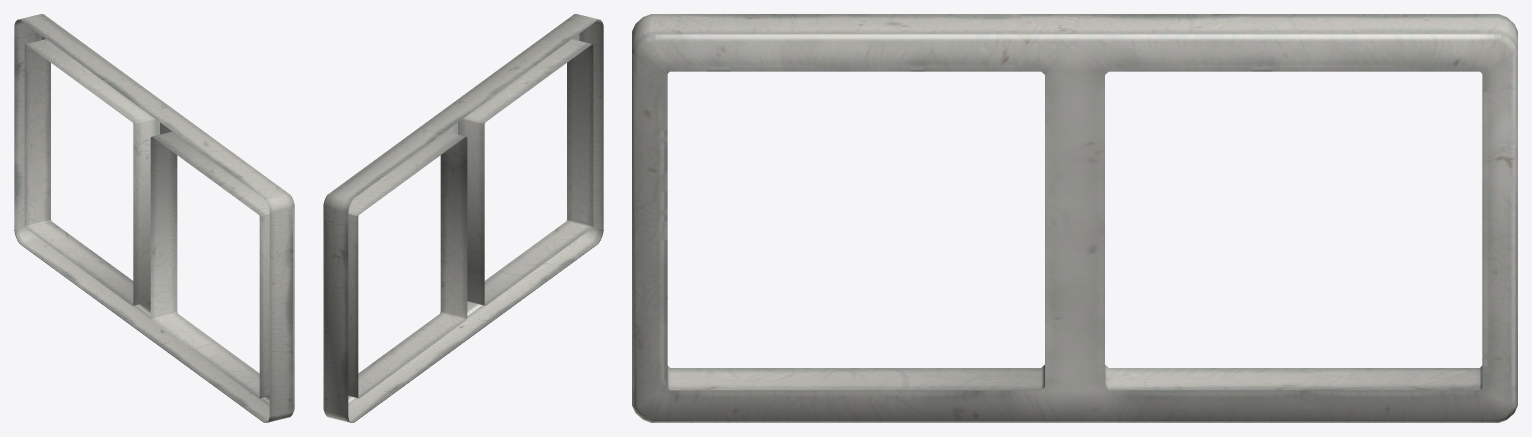
File: sign_frame02.glb
3 views of the same model, side by side, from view 1: azimuth 30°, elevation 25°; view 2: azimuth 150°, elevation 25°; view 3: azimuth 270°, elevation 25° (orthographic). The views are drawn at different scales.
Parts seen in each view (by area): view 1: sign_frame02_parts\obj\sign_frame02.obj; view 2: sign_frame02_parts\obj\sign_frame02.obj; view 3: sign_frame02_parts\obj\sign_frame02.obj.
Part boxes in pixels (bbox=[...]): sign_frame02_parts\obj\sign_frame02.obj: bbox=[14, 14, 294, 422]; sign_frame02_parts\obj\sign_frame02.obj: bbox=[323, 14, 603, 422]; sign_frame02_parts\obj\sign_frame02.obj: bbox=[632, 14, 1517, 422].
Bounding box in the file's own units: 0.0829 × 0.67 × 1.38.
Materials: 1 (1 with a texture image).
